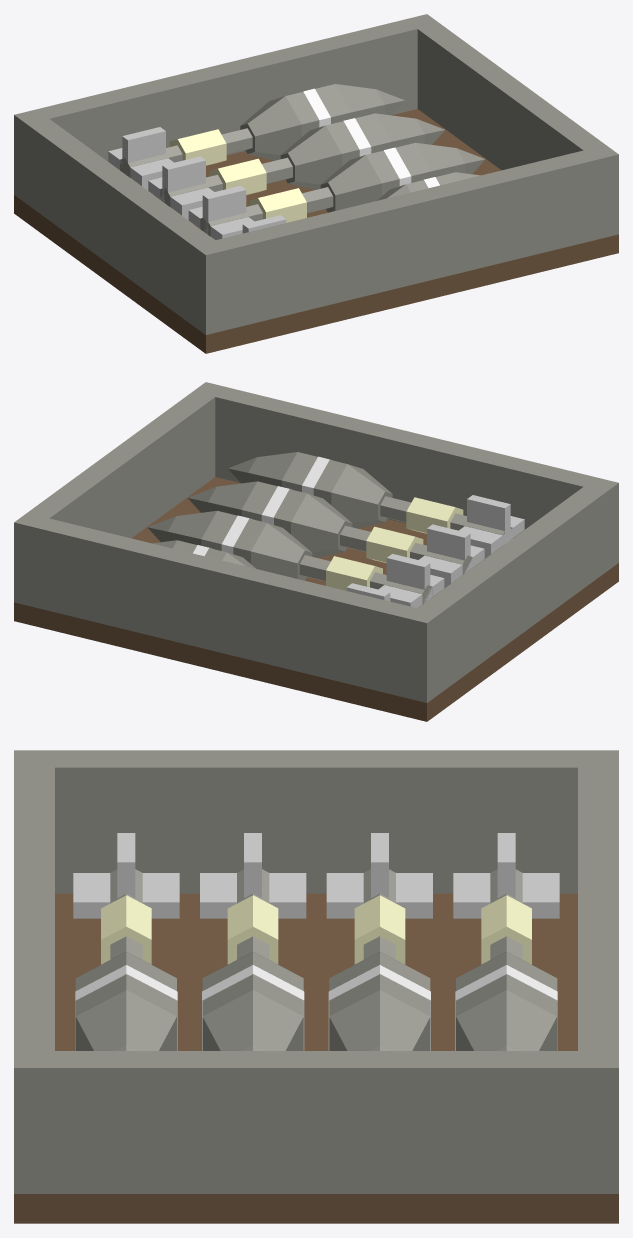
The model's file is ce_ammo_mortar_smoke_c.obj.
The picture shows the model from 3 angles, top to bottom: view 1: azimuth 30°, elevation 25°; view 2: azimuth 150°, elevation 25°; view 3: azimuth 270°, elevation 25°; orthographic projection. The views are drawn at different scales.
Parts seen in each view (by area): view 1: ce_ammo_mortar_smoke_c_3, ce_ammo_mortar_smoke_c_1, ce_ammo_mortar_smoke_c_4, ce_ammo_mortar_smoke_c_2, ce_ammo_mortar_smoke_c_0, ce_ammo_mortar_smoke_c_37, ce_ammo_mortar_smoke_c_27, ce_ammo_mortar_smoke_c_17, ce_ammo_mortar_smoke_c_36, ce_ammo_mortar_smoke_c_24, ce_ammo_mortar_smoke_c_26, ce_ammo_mortar_smoke_c_34 (+20 smaller); view 2: ce_ammo_mortar_smoke_c_4, ce_ammo_mortar_smoke_c_1, ce_ammo_mortar_smoke_c_3, ce_ammo_mortar_smoke_c_2, ce_ammo_mortar_smoke_c_0, ce_ammo_mortar_smoke_c_7, ce_ammo_mortar_smoke_c_17, ce_ammo_mortar_smoke_c_27, ce_ammo_mortar_smoke_c_14, ce_ammo_mortar_smoke_c_6, ce_ammo_mortar_smoke_c_16, ce_ammo_mortar_smoke_c_26 (+20 smaller); view 3: ce_ammo_mortar_smoke_c_2, ce_ammo_mortar_smoke_c_1, ce_ammo_mortar_smoke_c_0, ce_ammo_mortar_smoke_c_3, ce_ammo_mortar_smoke_c_4, ce_ammo_mortar_smoke_c_21, ce_ammo_mortar_smoke_c_31, ce_ammo_mortar_smoke_c_11, ce_ammo_mortar_smoke_c_41, ce_ammo_mortar_smoke_c_13, ce_ammo_mortar_smoke_c_43, ce_ammo_mortar_smoke_c_23 (+25 smaller).
Boxes of the visible parts, x1,y1,x2,y2 form: ce_ammo_mortar_smoke_c_3: (216, 150, 596, 329); ce_ammo_mortar_smoke_c_1: (14, 109, 228, 334); ce_ammo_mortar_smoke_c_4: (37, 19, 417, 169); ce_ammo_mortar_smoke_c_2: (405, 14, 618, 239); ce_ammo_mortar_smoke_c_0: (14, 109, 618, 353); ce_ammo_mortar_smoke_c_37: (240, 96, 301, 160); ce_ammo_mortar_smoke_c_27: (280, 125, 341, 189); ce_ammo_mortar_smoke_c_17: (320, 155, 381, 212); ce_ammo_mortar_smoke_c_36: (169, 129, 226, 165); ce_ammo_mortar_smoke_c_24: (202, 186, 246, 240); ce_ammo_mortar_smoke_c_26: (209, 158, 266, 194); ce_ammo_mortar_smoke_c_34: (162, 156, 205, 224); ce_ammo_mortar_smoke_c_4: (36, 518, 416, 697); ce_ammo_mortar_smoke_c_1: (404, 477, 618, 702); ce_ammo_mortar_smoke_c_3: (215, 387, 595, 537); ce_ammo_mortar_smoke_c_2: (14, 382, 227, 607); ce_ammo_mortar_smoke_c_0: (14, 477, 618, 721); ce_ammo_mortar_smoke_c_7: (331, 464, 392, 528); ce_ammo_mortar_smoke_c_17: (291, 493, 352, 557); ce_ammo_mortar_smoke_c_27: (251, 523, 312, 580); ce_ammo_mortar_smoke_c_14: (467, 495, 510, 562); ce_ammo_mortar_smoke_c_6: (406, 497, 463, 533); ce_ammo_mortar_smoke_c_16: (366, 526, 423, 562); ce_ammo_mortar_smoke_c_26: (326, 556, 382, 590); ce_ammo_mortar_smoke_c_2: (14, 1051, 618, 1193); ce_ammo_mortar_smoke_c_1: (14, 750, 618, 893); ce_ammo_mortar_smoke_c_0: (14, 893, 618, 1223); ce_ammo_mortar_smoke_c_3: (14, 767, 54, 1050); ce_ammo_mortar_smoke_c_4: (578, 767, 618, 1050); ce_ammo_mortar_smoke_c_21: (202, 990, 303, 1050); ce_ammo_mortar_smoke_c_31: (329, 990, 430, 1050); ce_ammo_mortar_smoke_c_11: (75, 990, 176, 1050); ce_ammo_mortar_smoke_c_41: (456, 990, 557, 1050); ce_ammo_mortar_smoke_c_13: (73, 873, 179, 918); ce_ammo_mortar_smoke_c_43: (453, 873, 559, 918); ce_ammo_mortar_smoke_c_23: (200, 873, 306, 918).
Size of the model in its own units: 0.92 by 0.21 by 0.74.
